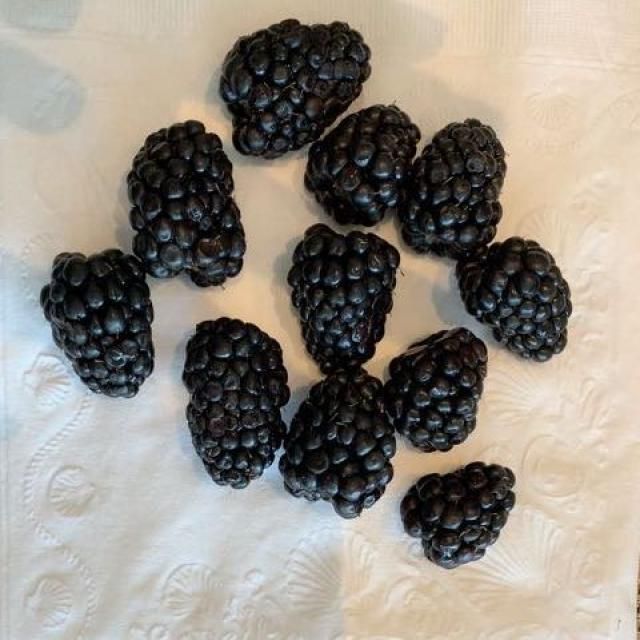blackberry: (14, 22, 591, 548)
